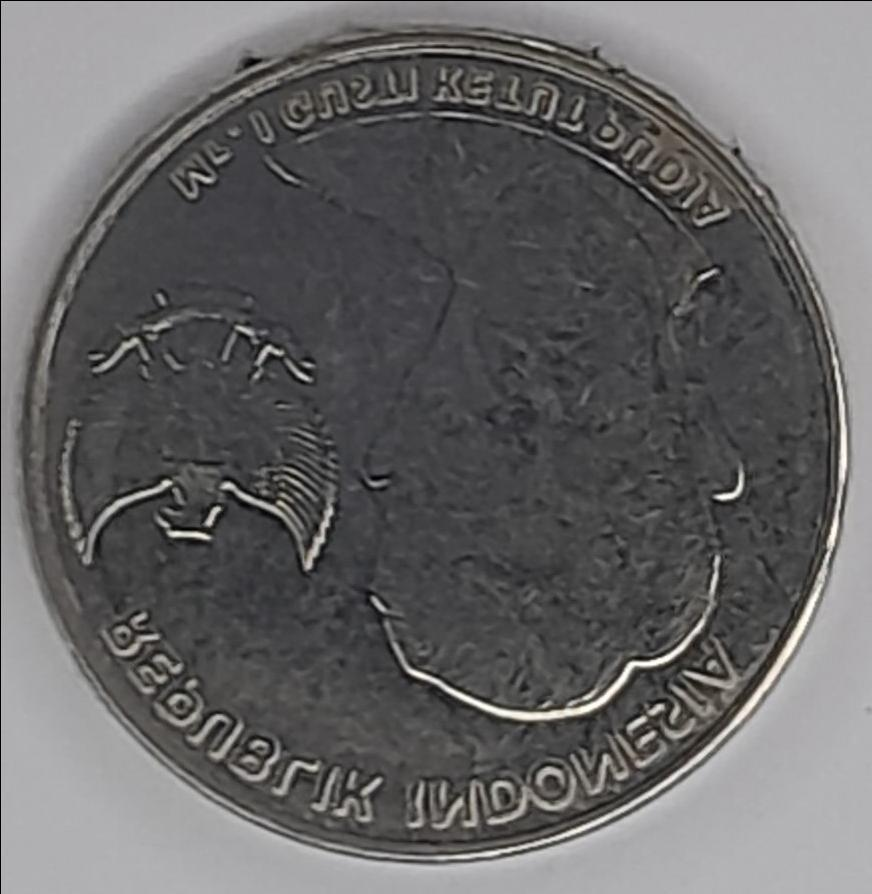coin_1000_e2016: (15, 18, 860, 894)
